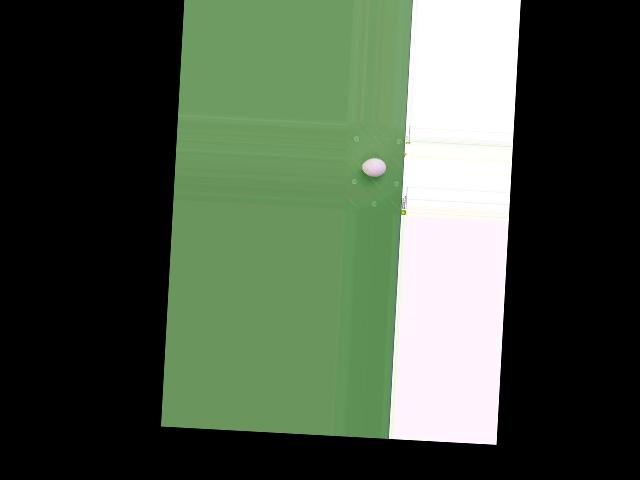egg: (362, 157, 386, 177)
